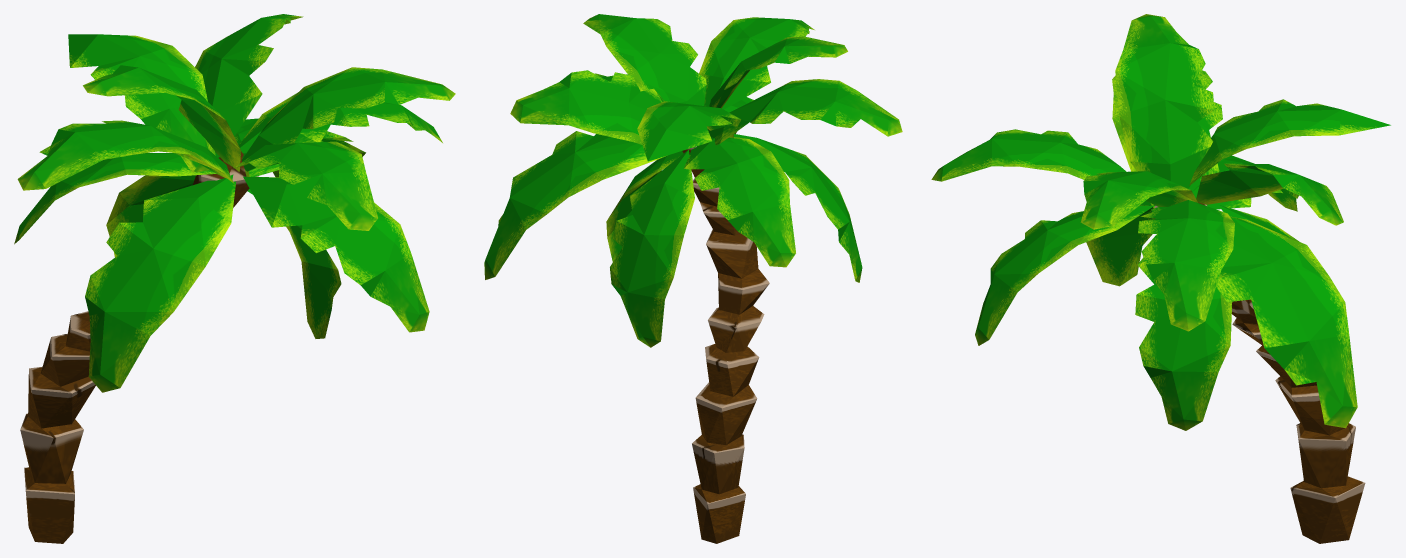
Rendered from PalmeiraLOD1.fbx.
3 views of the same model, side by side, from view 1: azimuth 30°, elevation 25°; view 2: azimuth 150°, elevation 25°; view 3: azimuth 270°, elevation 25° (orthographic). The views are drawn at different scales.
Parts seen in each view (by area): view 1: PalmeiraLOD1; view 2: PalmeiraLOD1; view 3: PalmeiraLOD1.
Boxes of the visible parts, left/top/right/bottom form: PalmeiraLOD1: left=14, top=14, right=455, bottom=543; PalmeiraLOD1: left=484, top=14, right=902, bottom=543; PalmeiraLOD1: left=931, top=14, right=1390, bottom=543.
Bounding box in the file's own units: 370 × 428 × 357.
